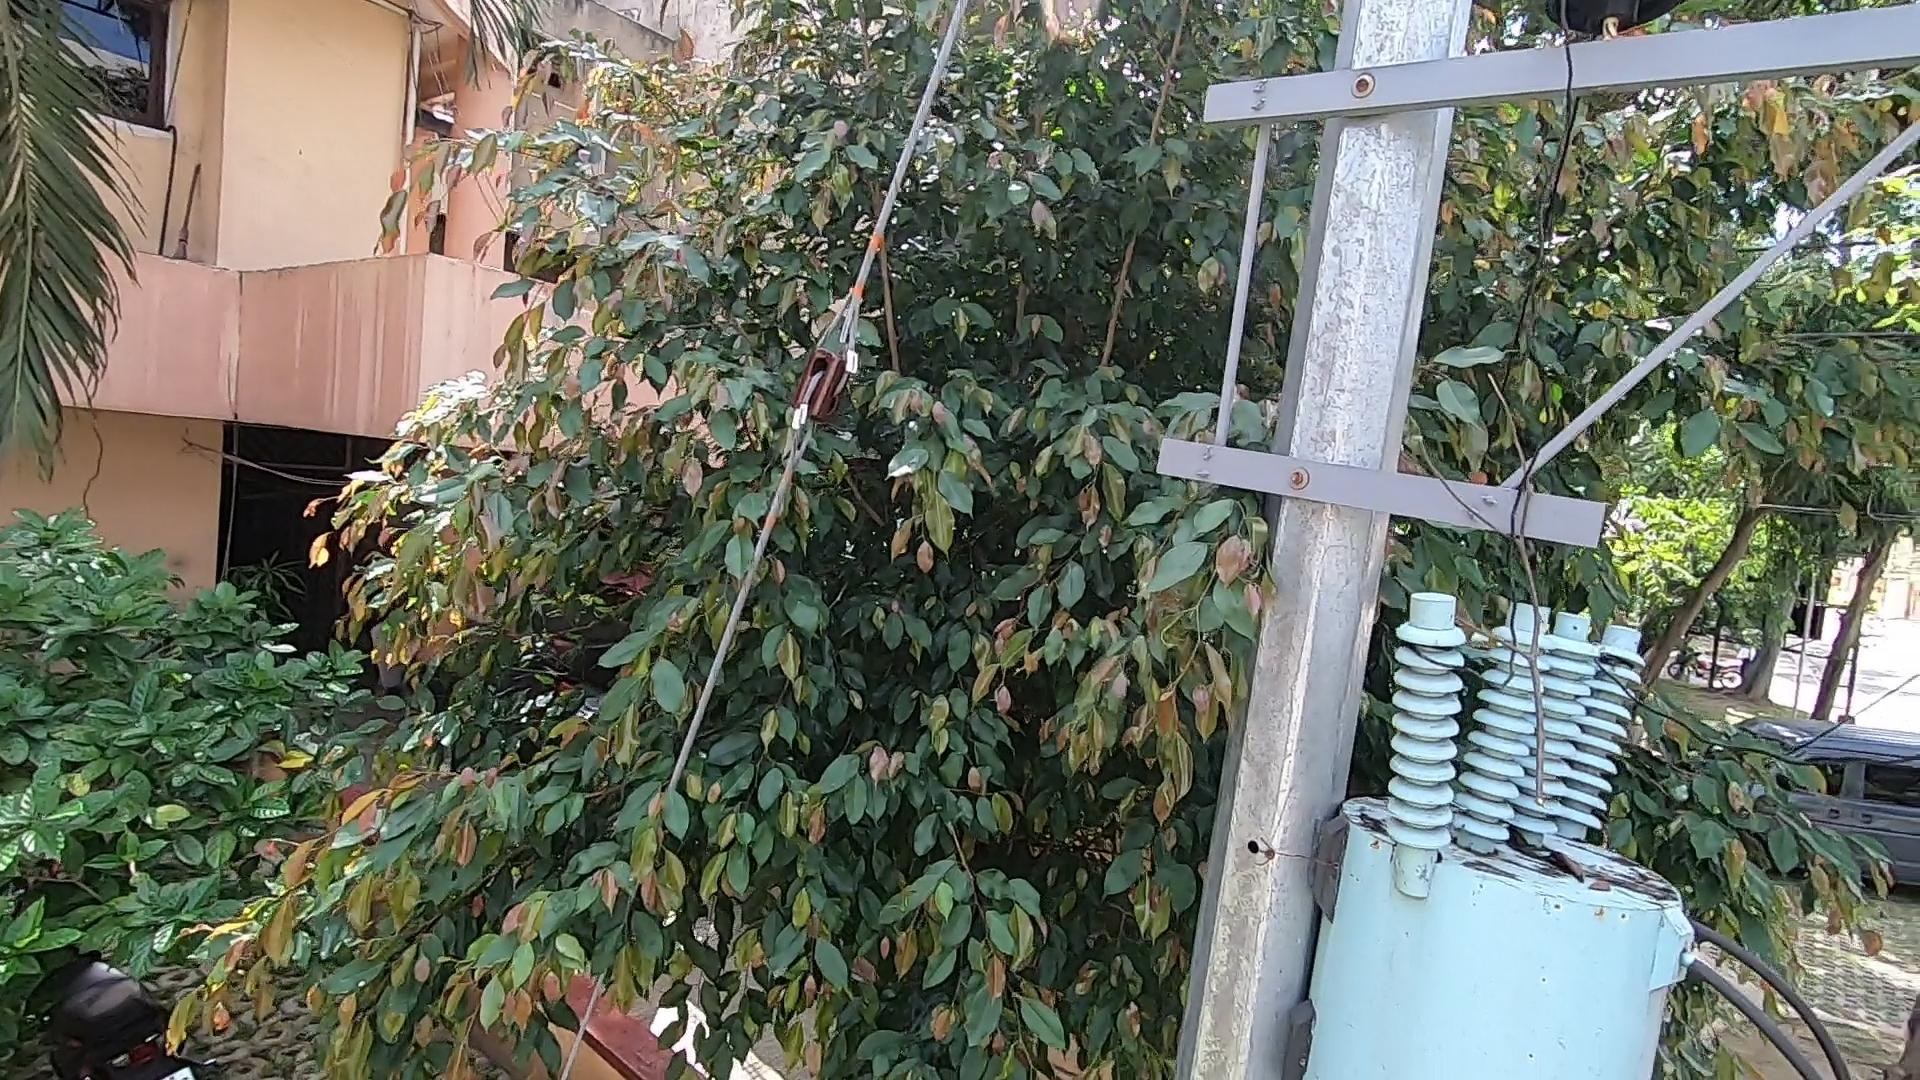leaf: (1501, 827, 1594, 887)
tree branch: (1414, 375, 1576, 808)
